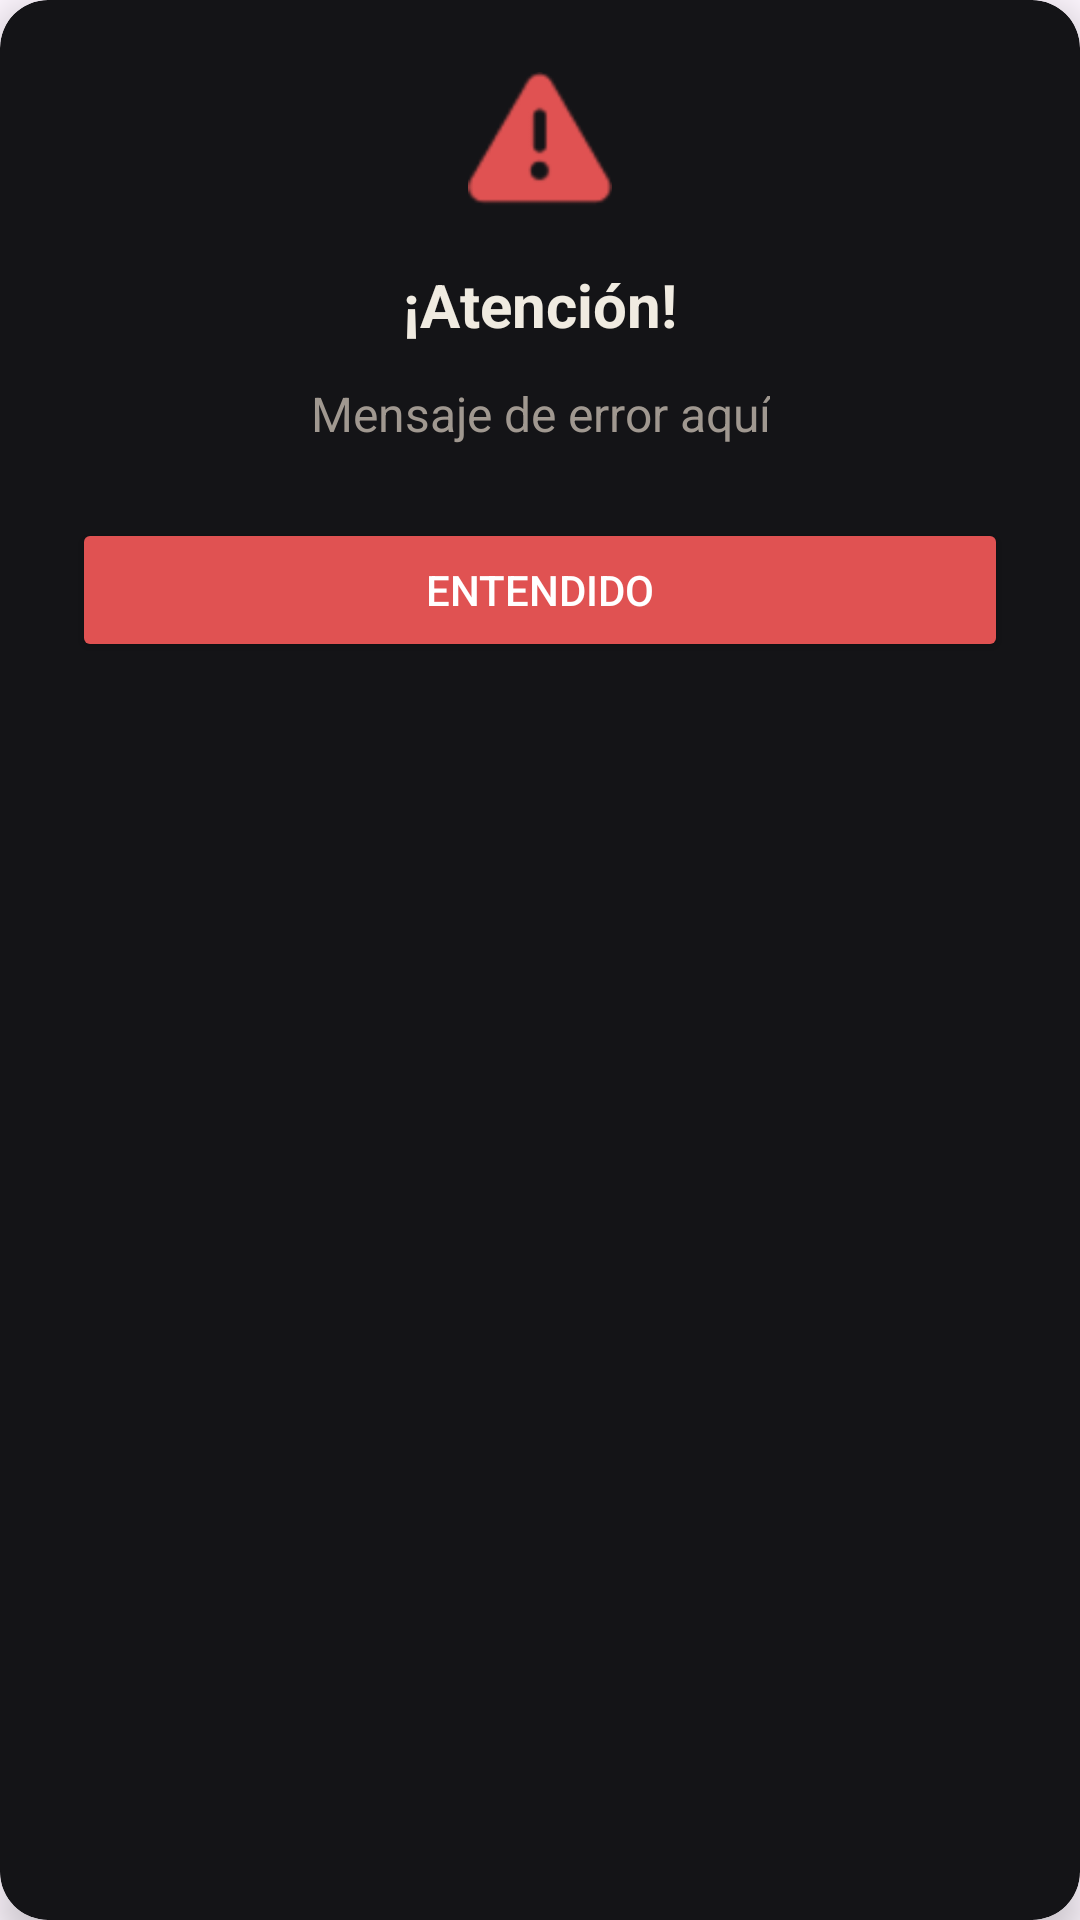

Icon bounding boxes for this 1080x1920 phone screenshot, format [x1=x1, y1=y1, x2=x2, y2=y2]:
alert: [x1=468, y1=72, x2=612, y2=203]
